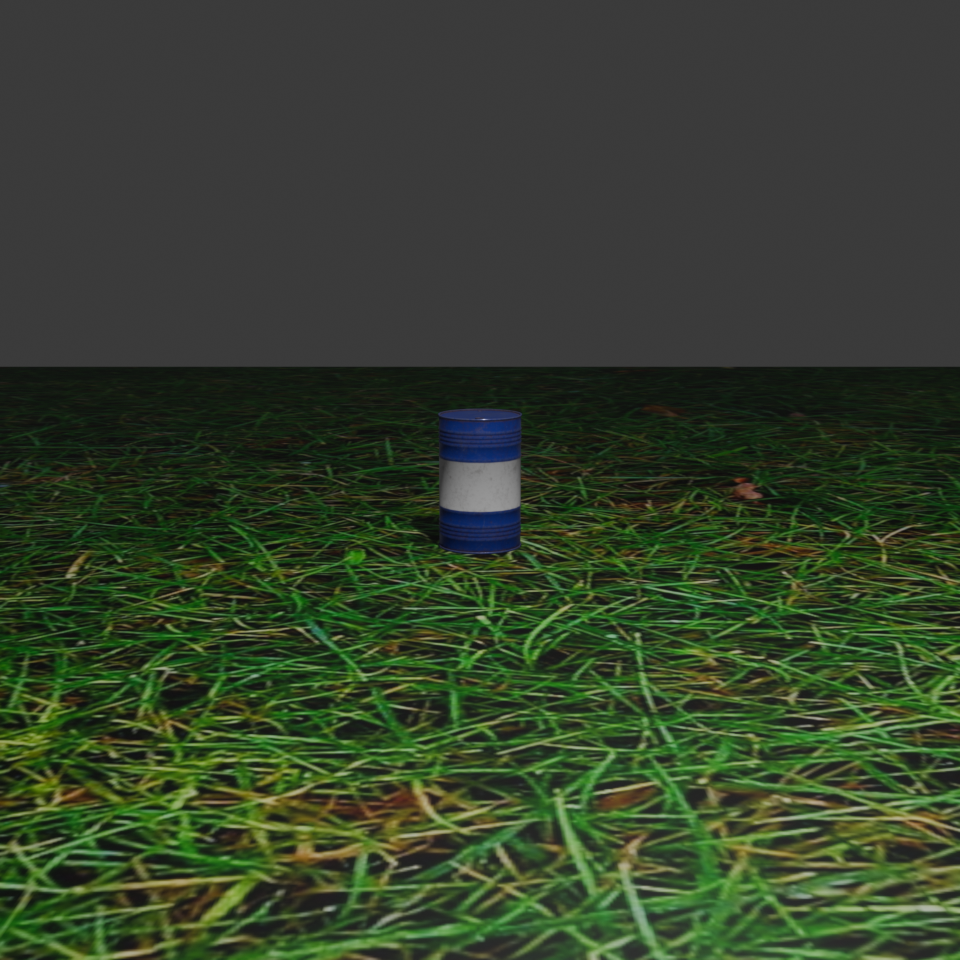circle: (438, 405, 521, 555)
